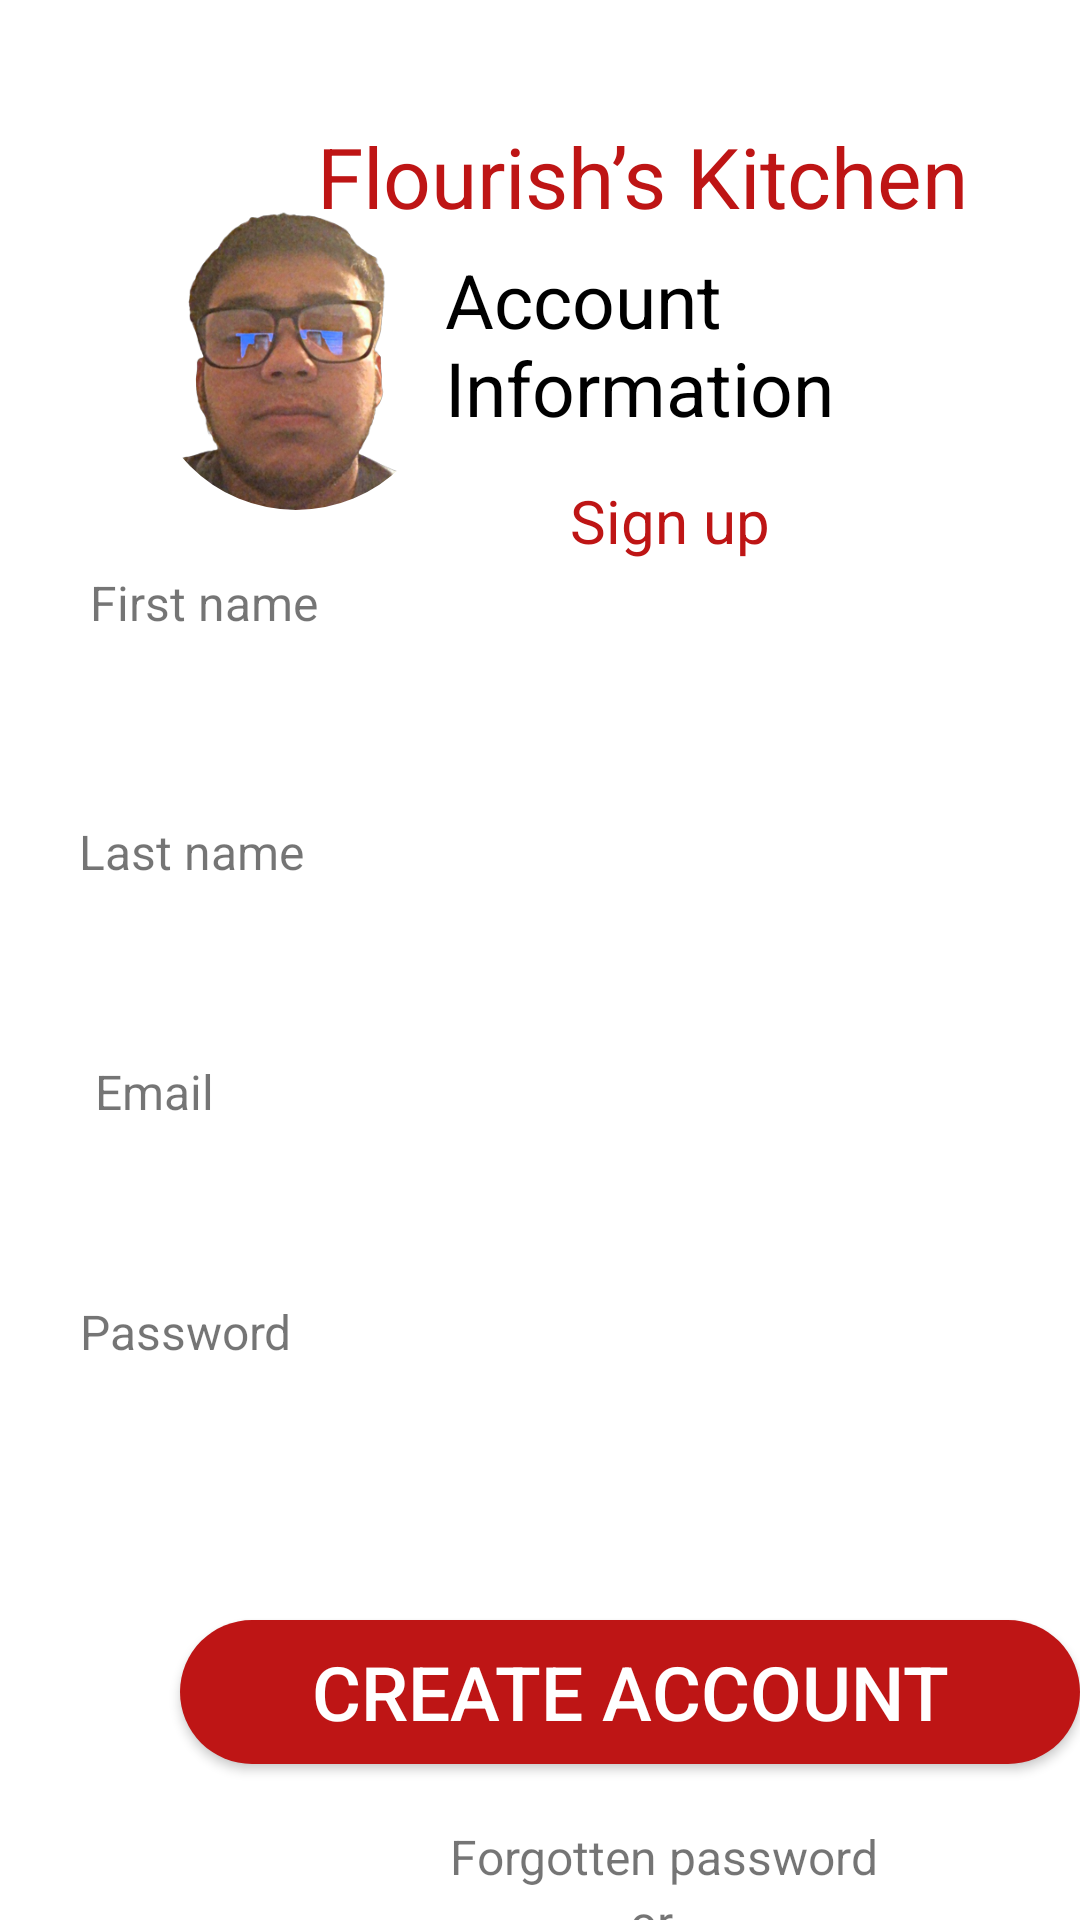

Icons on this 1080px x 1920px Android screen, each with the point to tap as point (x, y):
profil photo: point (289, 361)
